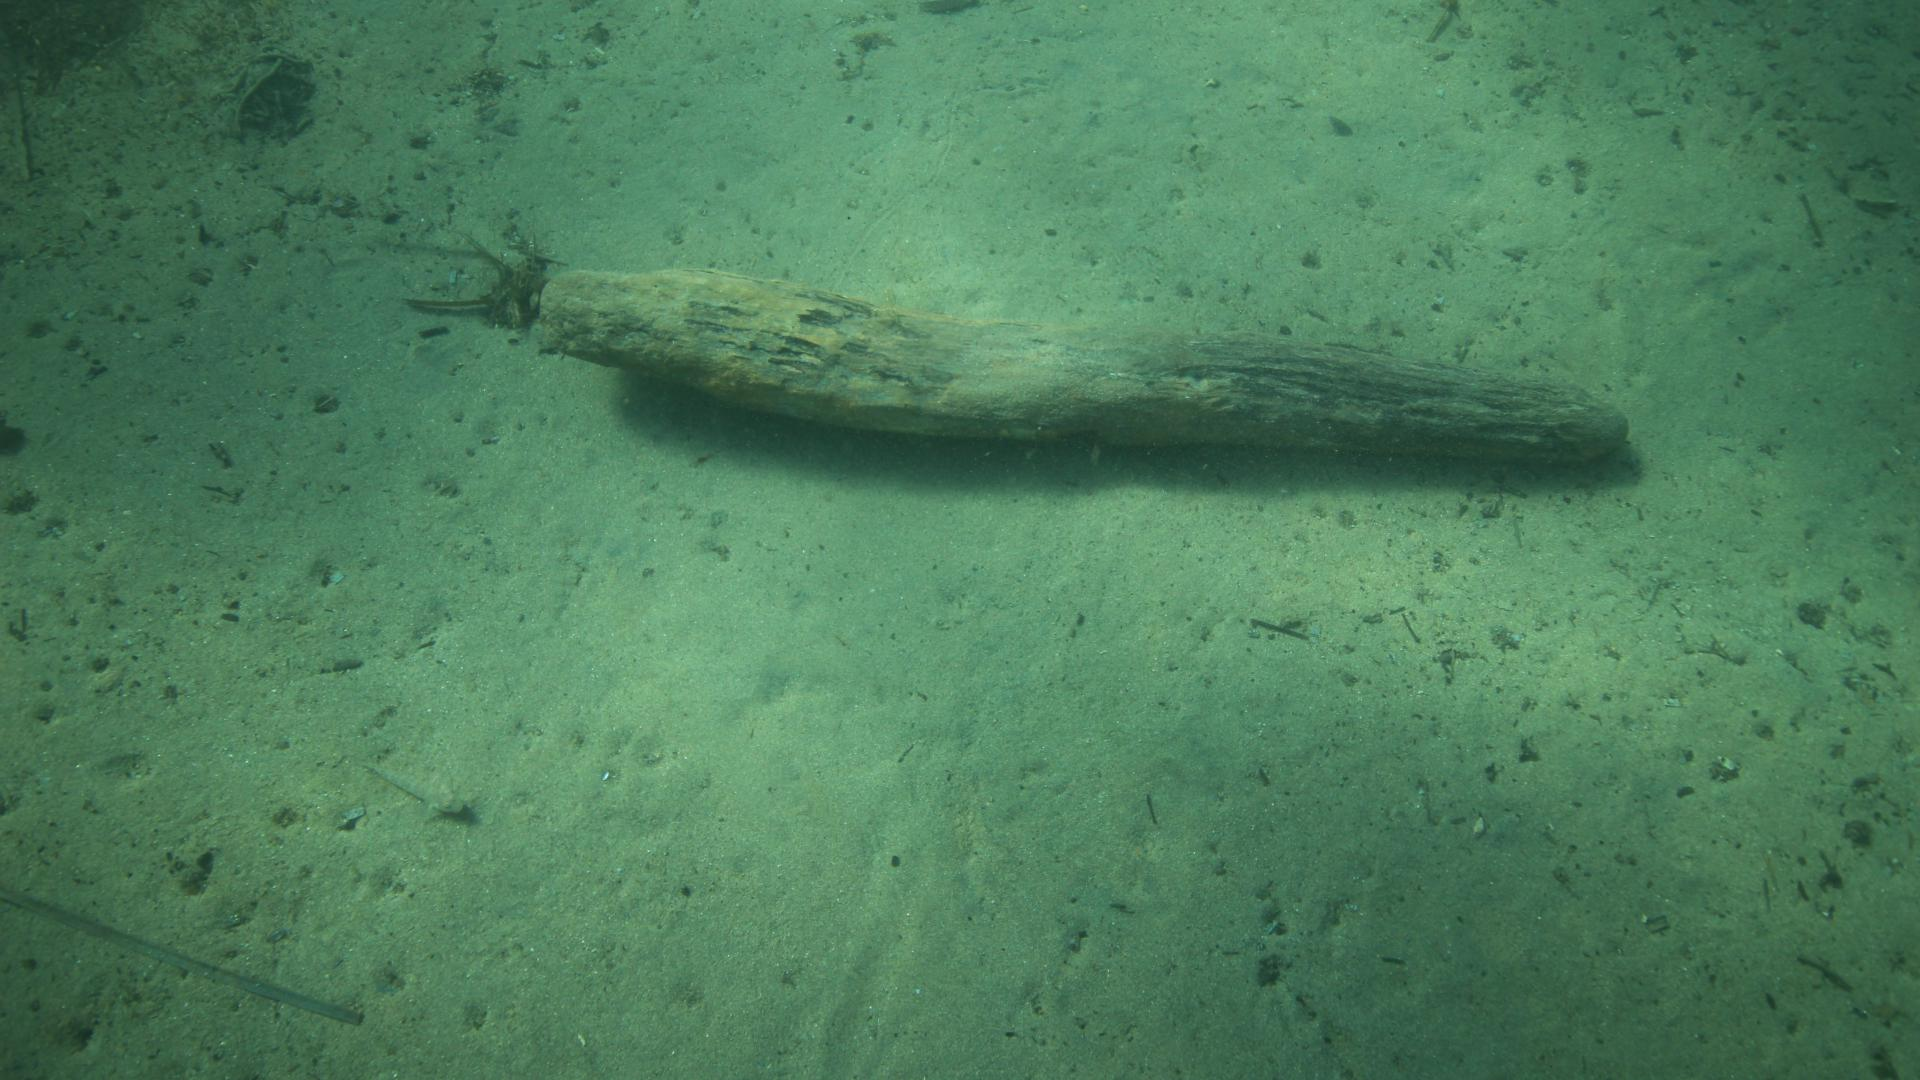wood: (535, 266, 1630, 471)
